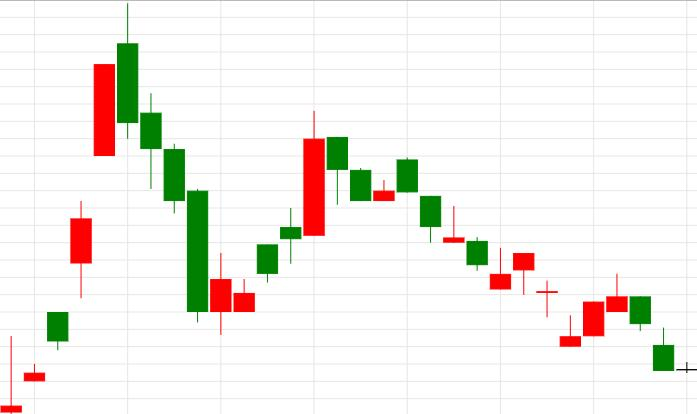three_black_crows_fall: (0, 2, 186, 414)
